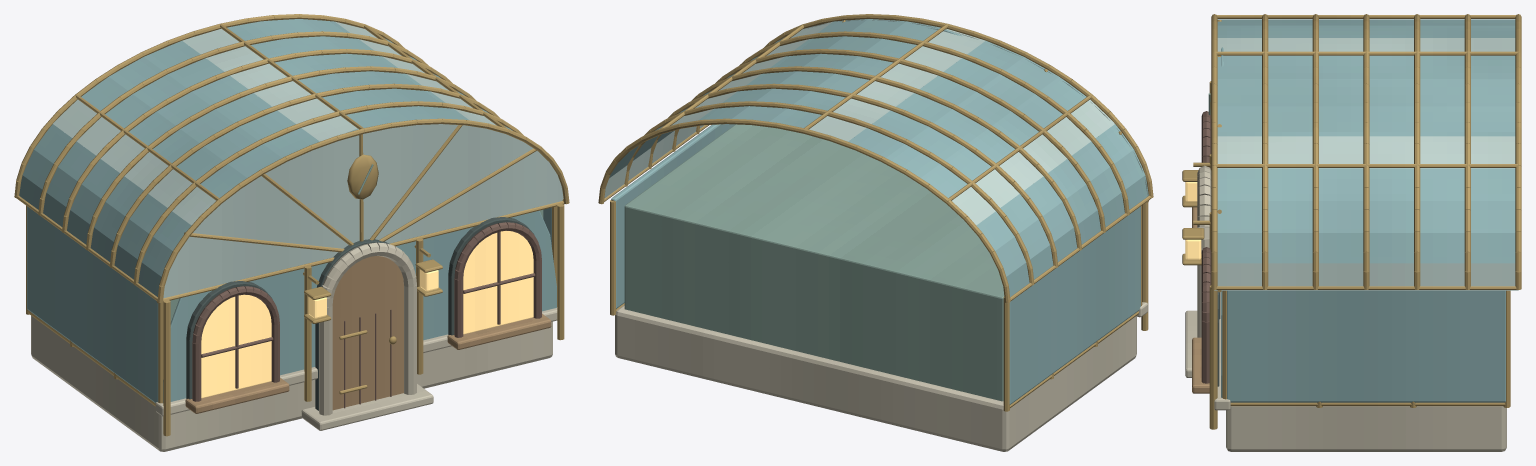
The model's file is village-museum.glb.
3 views of the same model, side by side, from view 1: azimuth 30°, elevation 25°; view 2: azimuth 150°, elevation 25°; view 3: azimuth 270°, elevation 25° (orthographic). The views are drawn at different scales.
Parts seen in each view (by area): view 1: Forest hamlet; view 2: Forest hamlet; view 3: Forest hamlet.
Part boxes in pixels (left/top/right/bottom): Forest hamlet: left=14, top=14, right=569, bottom=451; Forest hamlet: left=598, top=14, right=1153, bottom=451; Forest hamlet: left=1182, top=14, right=1521, bottom=451.
Size of the model in its own units: 5.75 by 3.77 by 3.86.
Materials: 9 (9 with a texture image).
